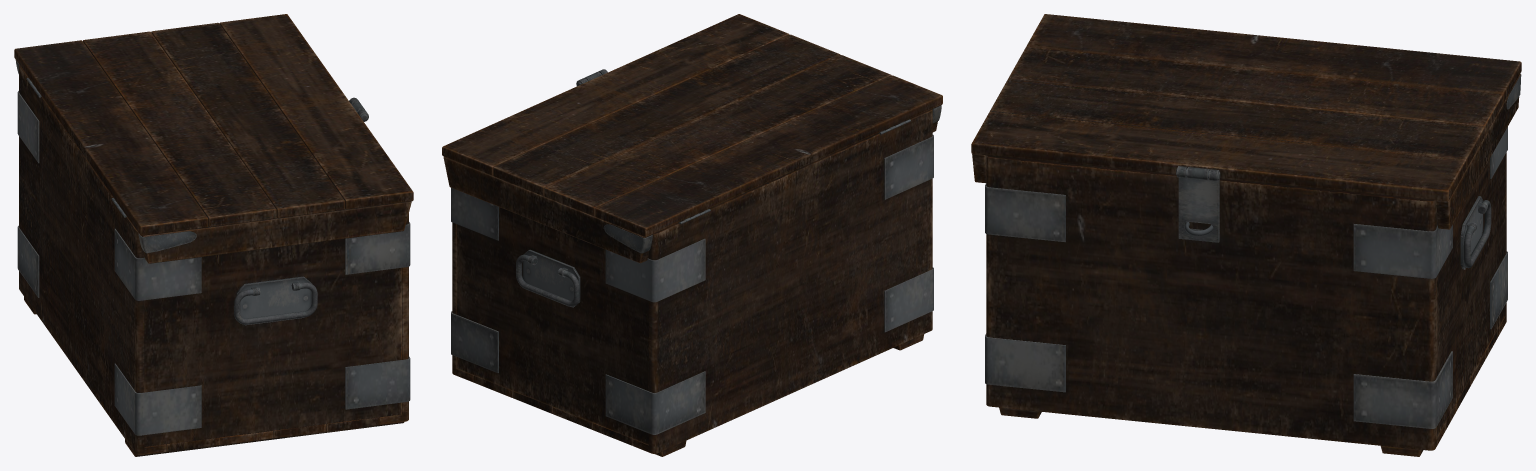
3 views of the same model, side by side, from view 1: azimuth 30°, elevation 25°; view 2: azimuth 150°, elevation 25°; view 3: azimuth 270°, elevation 25° (orthographic). The views are drawn at different scales.
Parts seen in each view (by area): view 1: lower_crate.001, top_crate.002, Cylinder.002; view 2: lower_crate.001, top_crate.002, Cylinder.004; view 3: lower_crate.001, top_crate.002, Cube.001, Cylinder.004.
Boxes of the visible parts, left/top/right/bottom form: lower_crate.001: left=17, top=65, right=410, bottom=456; top_crate.002: left=14, top=14, right=413, bottom=263; Cylinder.002: left=234, top=282, right=317, bottom=324; lower_crate.001: left=451, top=109, right=933, bottom=456; top_crate.002: left=442, top=14, right=942, bottom=263; Cylinder.004: left=516, top=254, right=579, bottom=306; lower_crate.001: left=985, top=127, right=1507, bottom=456; top_crate.002: left=971, top=14, right=1521, bottom=229; Cube.001: left=1176, top=166, right=1220, bottom=242; Cylinder.004: left=1463, top=200, right=1491, bottom=268.
Size of the model in its own units: 26.85 by 19 by 35.03.
1 material, 1 textured.
